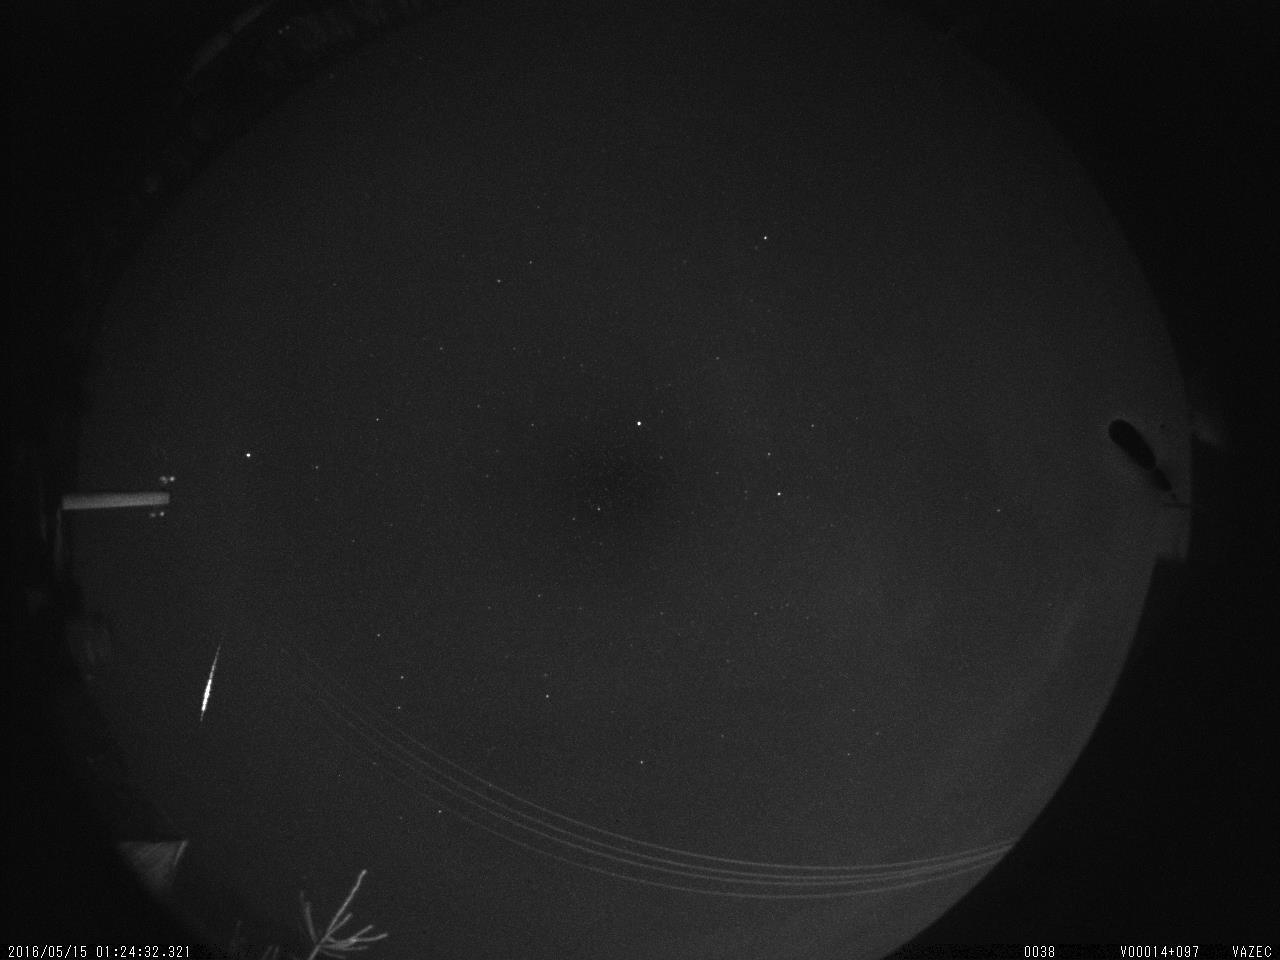Meteor: (194, 634, 228, 727)
